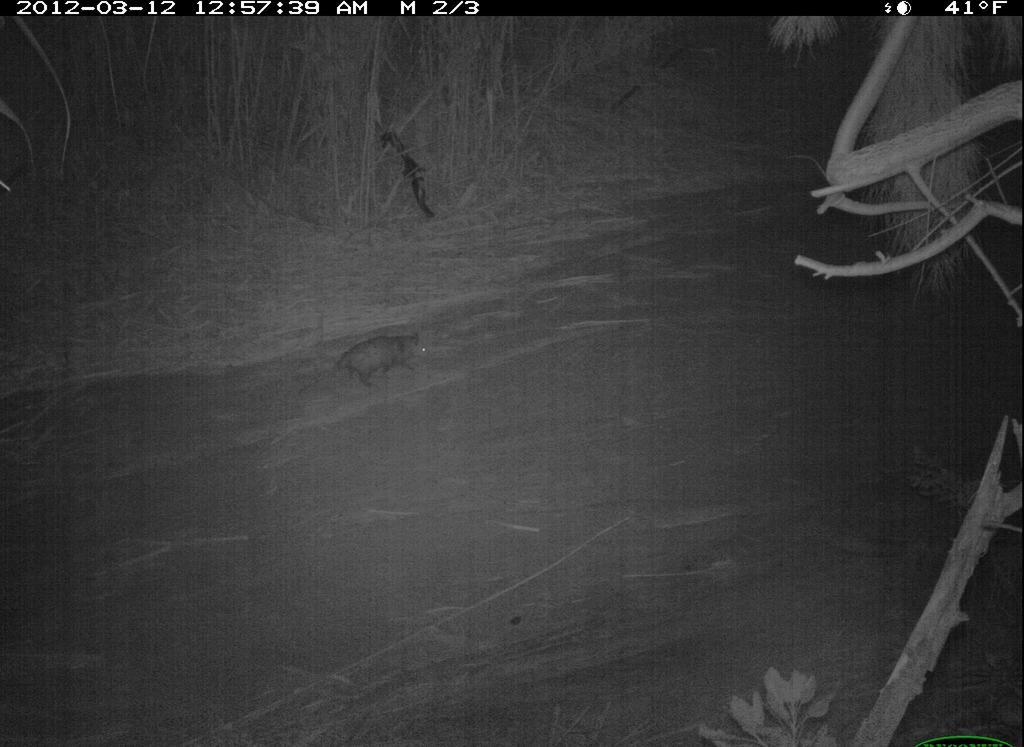opossum: (299, 324, 451, 397)
